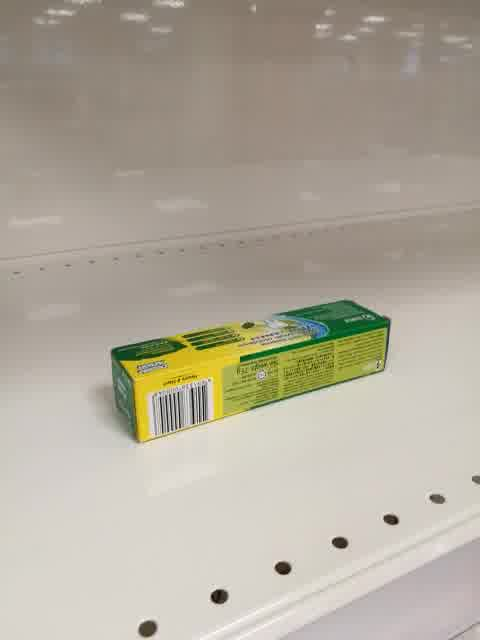toothpaste: (109, 299, 392, 446)
